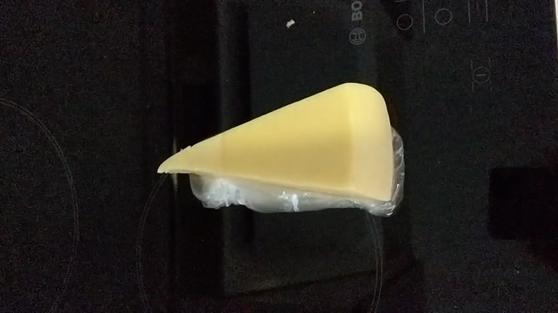cheese: (157, 80, 396, 209)
